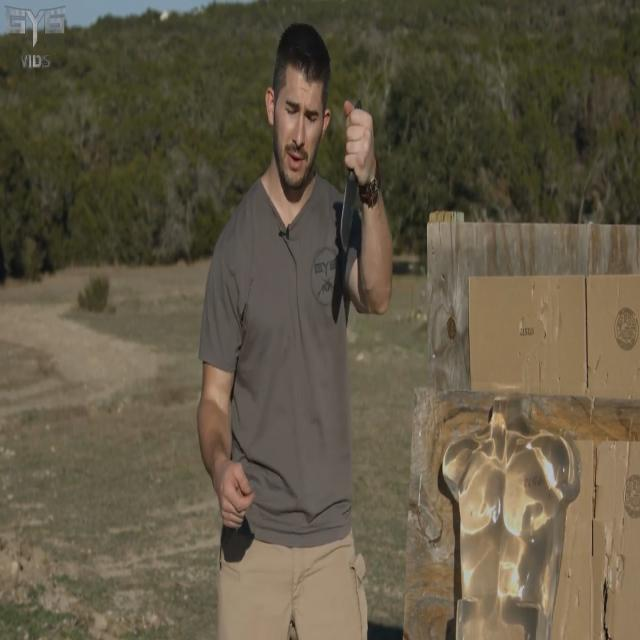knife: (337, 167, 361, 261)
